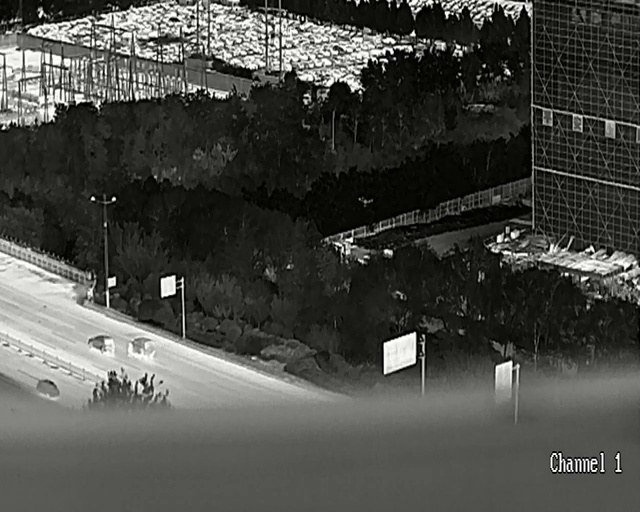uav: (358, 197, 373, 207)
